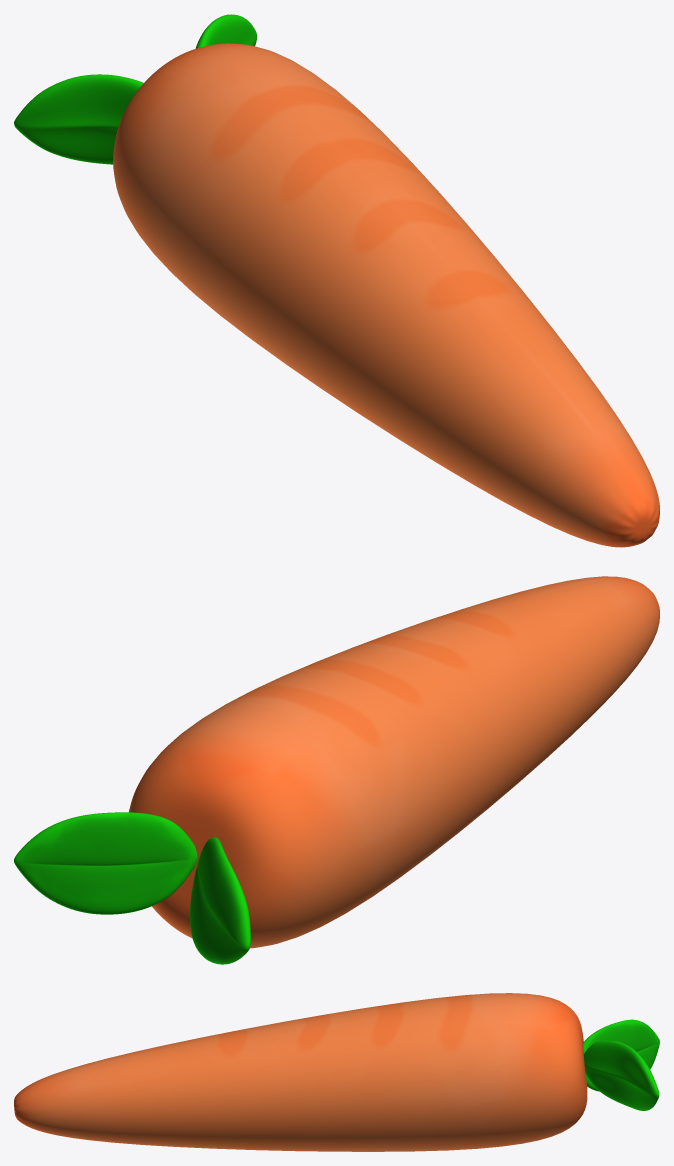
The model's file is SM_Carrot.fbx.
The picture shows the model from 3 angles, top to bottom: view 1: azimuth 30°, elevation 25°; view 2: azimuth 150°, elevation 25°; view 3: azimuth 270°, elevation 25°; orthographic projection. The views are drawn at different scales.
Parts seen in each view (by area): view 1: SM_Carrot; view 2: SM_Carrot; view 3: SM_Carrot.
Boxes of the visible parts, bbox=[...] form: SM_Carrot: bbox=[14, 14, 659, 547]; SM_Carrot: bbox=[14, 576, 659, 964]; SM_Carrot: bbox=[14, 993, 659, 1151].
Size of the model in its own units: 19.22 by 17.68 by 71.32.
